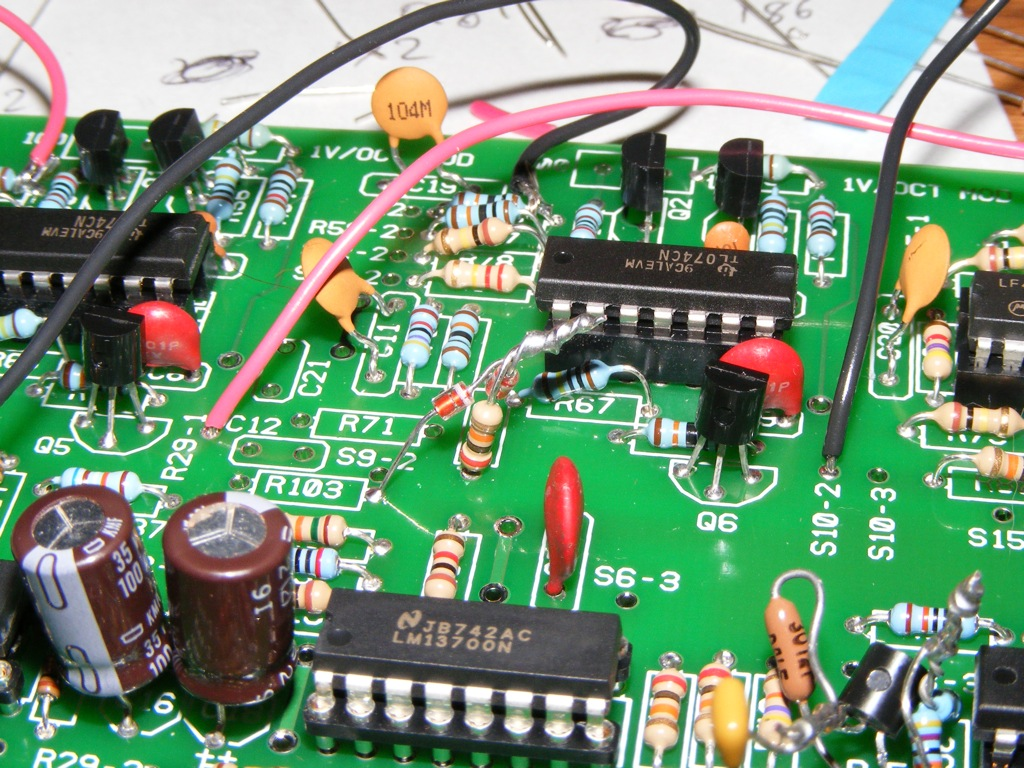Capacitor: (8, 480, 174, 724), (160, 492, 302, 710)
Resistor: (518, 357, 622, 404), (884, 598, 988, 645), (639, 665, 691, 757), (453, 396, 506, 480), (426, 215, 515, 264), (754, 665, 803, 753), (928, 401, 1024, 445), (430, 256, 528, 296), (694, 657, 736, 749), (56, 462, 149, 503), (396, 303, 444, 378), (195, 117, 288, 155), (439, 308, 486, 382), (639, 413, 728, 452), (276, 507, 356, 550), (437, 200, 528, 235), (204, 153, 248, 224), (425, 529, 469, 600), (256, 164, 301, 233), (916, 312, 956, 389), (803, 195, 841, 270), (965, 440, 1024, 485), (754, 191, 792, 258), (910, 702, 947, 768), (32, 168, 82, 216), (289, 544, 351, 580), (966, 243, 1024, 276), (567, 200, 609, 244), (290, 576, 336, 613), (451, 191, 540, 210), (1, 303, 41, 344), (765, 145, 803, 186), (54, 358, 96, 395)
